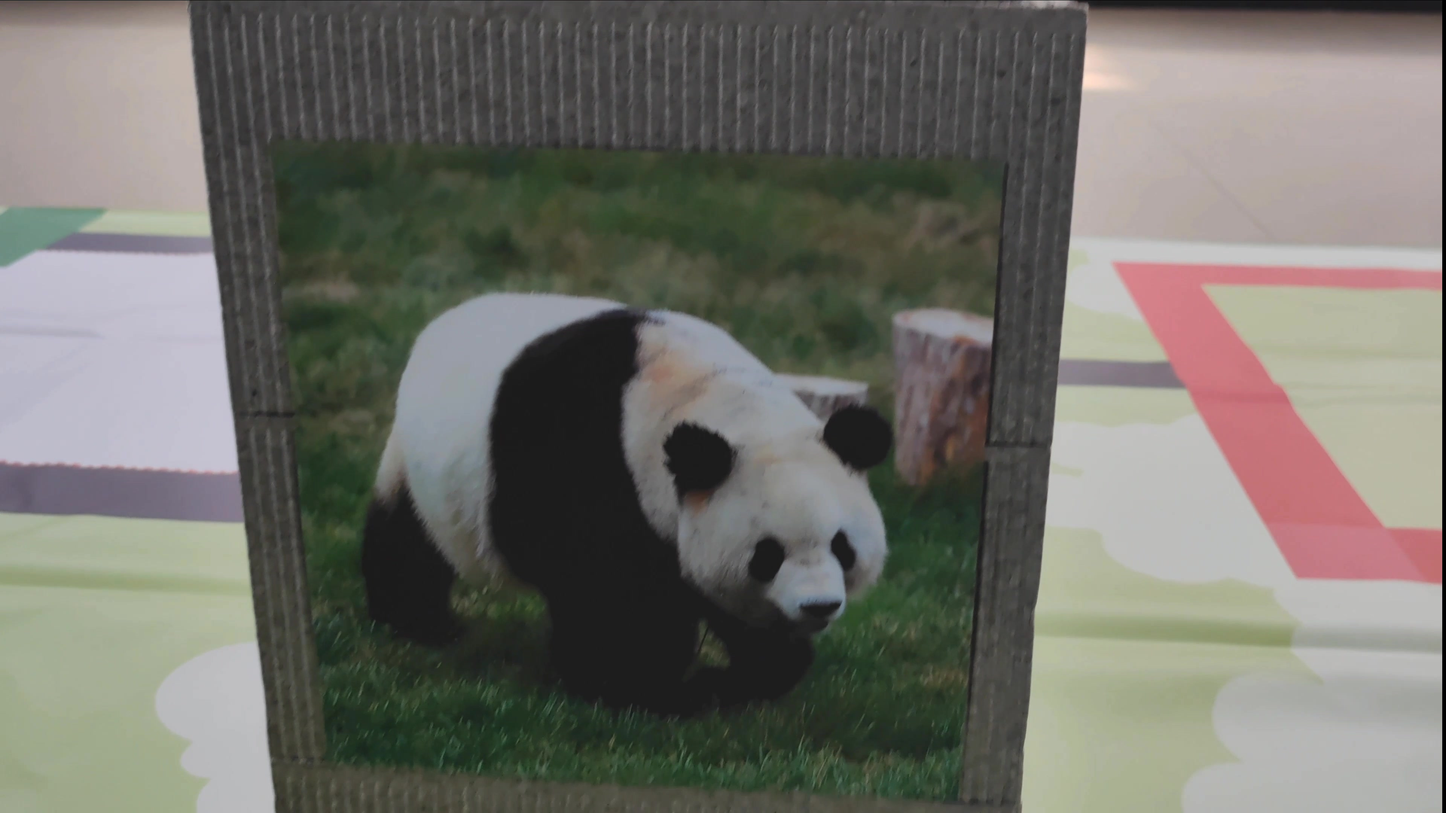panda: (337, 232, 916, 704)
